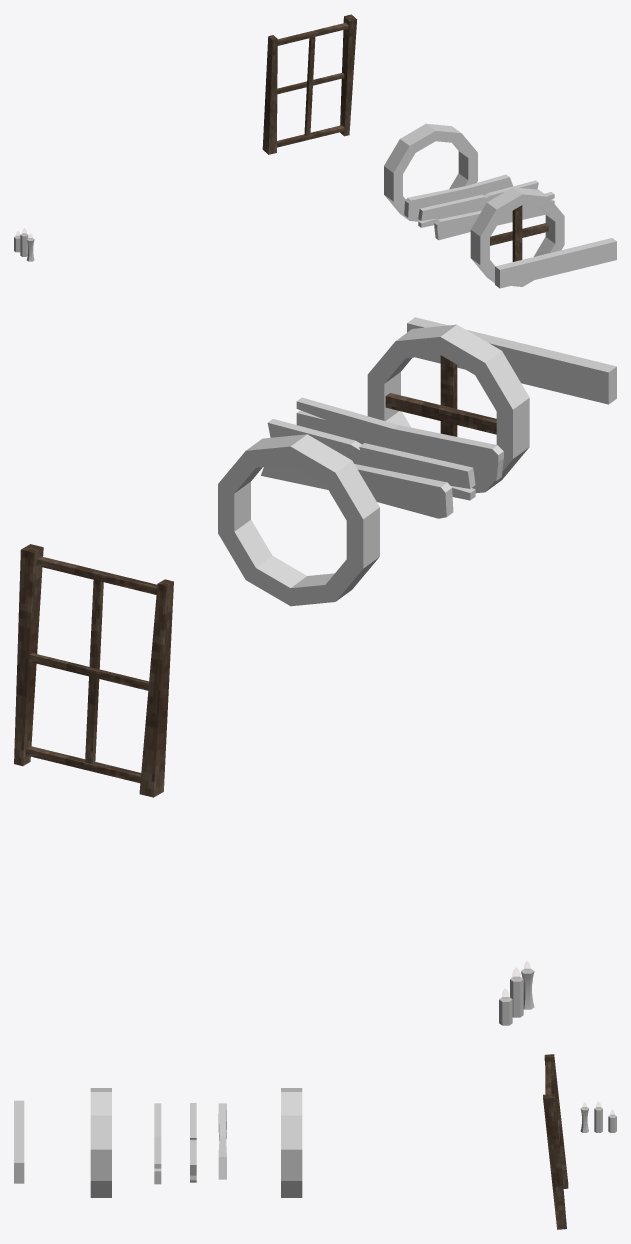
Rendered from candle_window_board_blockout.fbx.
The picture shows the model from 3 angles, top to bottom: view 1: azimuth 30°, elevation 25°; view 2: azimuth 150°, elevation 25°; view 3: azimuth 270°, elevation 25°; orthographic projection. The views are drawn at different scales.
Visible parts, largest first — view 1: 立方体.007, 柱体.009, 柱体.008, 立方体.067, 立方体.072, 立方体.071, 立方体.069, 立方体.068; view 2: 立方体.007, 柱体.008, 柱体.009, 立方体.069, 立方体.067, 立方体.071, 立方体.072, 立方体.068; view 3: 立方体.007, 柱体.008, 柱体.009, 立方体.067, 立方体.072, 立方体.069, 立方体.071.
Boxes of the visible parts, box(x1,y1,x2,y2) form: 立方体.007: box(262, 14, 356, 154); 柱体.009: box(470, 187, 564, 286); 柱体.008: box(384, 123, 477, 221); 立方体.067: box(495, 238, 616, 288); 立方体.072: box(404, 174, 512, 218); 立方体.071: box(418, 180, 538, 227); 立方体.069: box(434, 192, 554, 240); 立方体.068: box(490, 205, 548, 261); 立方体.007: box(14, 544, 173, 797); 柱体.008: box(218, 434, 379, 606); 柱体.009: box(367, 324, 529, 493); 立方体.069: box(296, 397, 503, 480); 立方体.067: box(407, 317, 616, 404); 立方体.071: box(267, 419, 475, 500); 立方体.072: box(261, 464, 453, 518); 立方体.068: box(385, 355, 496, 436); 立方体.007: box(543, 1054, 568, 1229); 柱体.008: box(281, 1088, 302, 1197); 柱体.009: box(90, 1088, 111, 1197); 立方体.067: box(14, 1100, 24, 1183); 立方体.072: box(218, 1103, 226, 1179); 立方体.069: box(154, 1103, 161, 1184); 立方体.071: box(190, 1103, 196, 1182).
Bounding box in the file's own units: 131 × 68.56 × 189.
